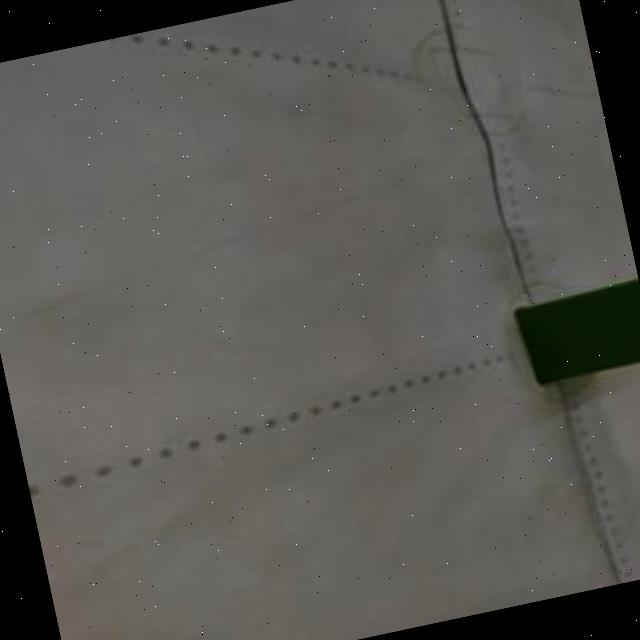greenbox: (517, 275, 640, 387)
